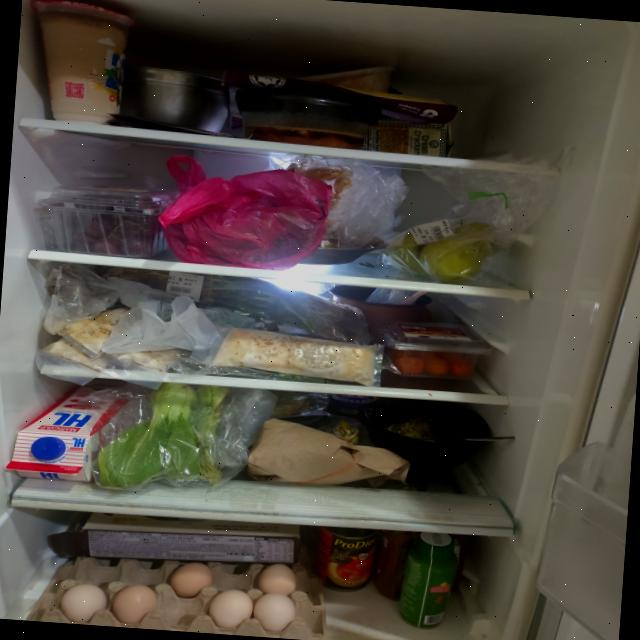apple: (382, 213, 504, 286)
egg: (26, 544, 325, 640)
grape: (70, 202, 162, 258)
pakchoy: (95, 378, 230, 496)
tempeh: (46, 300, 190, 378), (210, 326, 378, 386)
unknown_bag: (154, 154, 334, 274)
